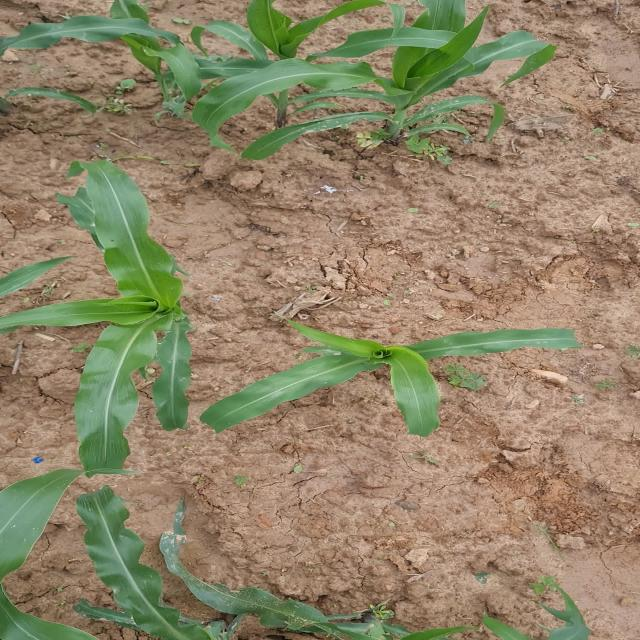maize: (30, 0, 536, 167), (18, 176, 196, 446), (204, 320, 584, 435), (29, 476, 213, 640), (234, 571, 583, 640)
